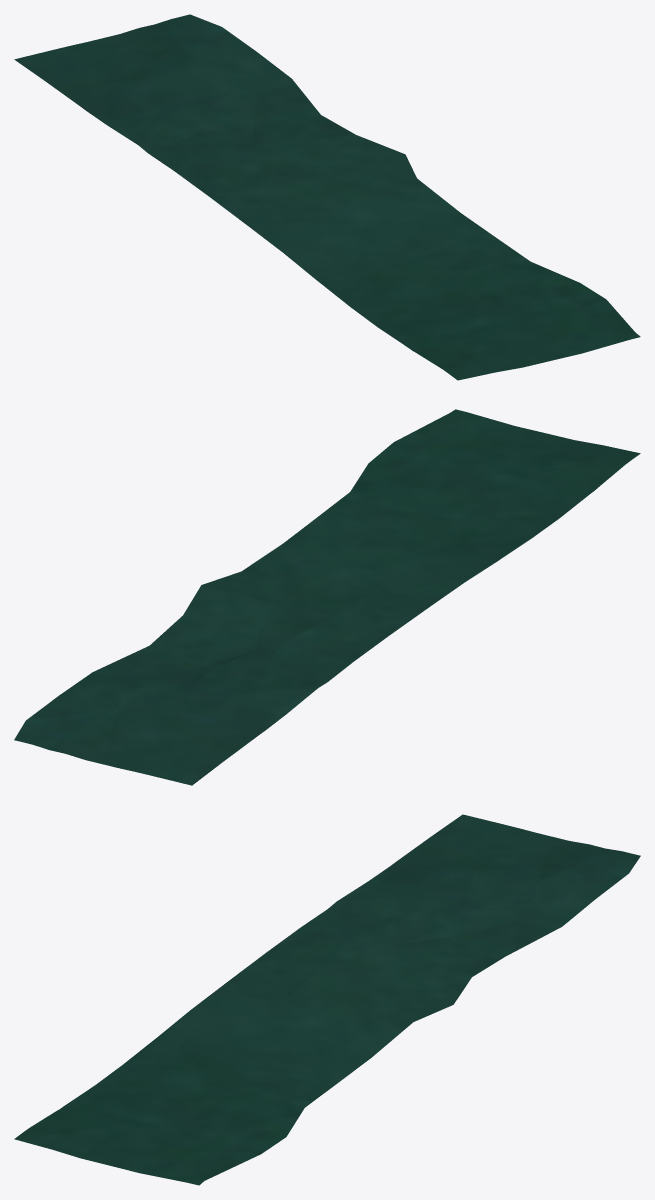
3 renders of one model, top to bottom at view 1: azimuth 30°, elevation 25°; view 2: azimuth 150°, elevation 25°; view 3: azimuth 330°, elevation 25°, orthographic.
Size of the model in its own units: 13.36 by 0.6105 by 52.22.
1 material, 1 textured.
